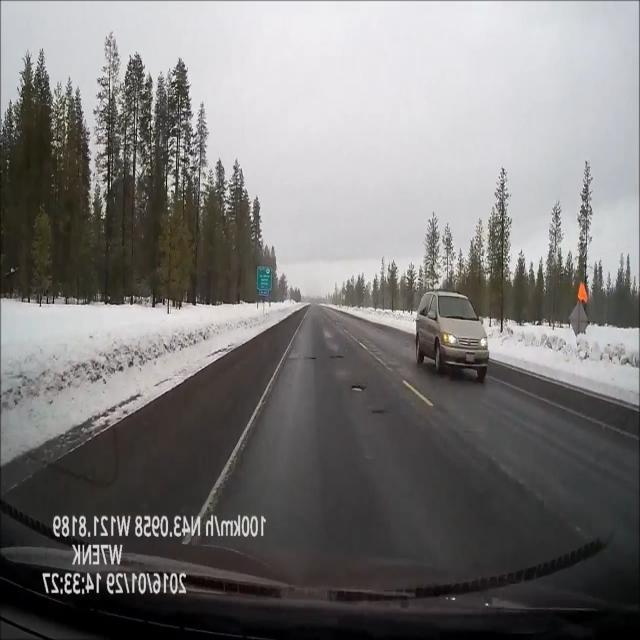pothole: (349, 375, 367, 401)
